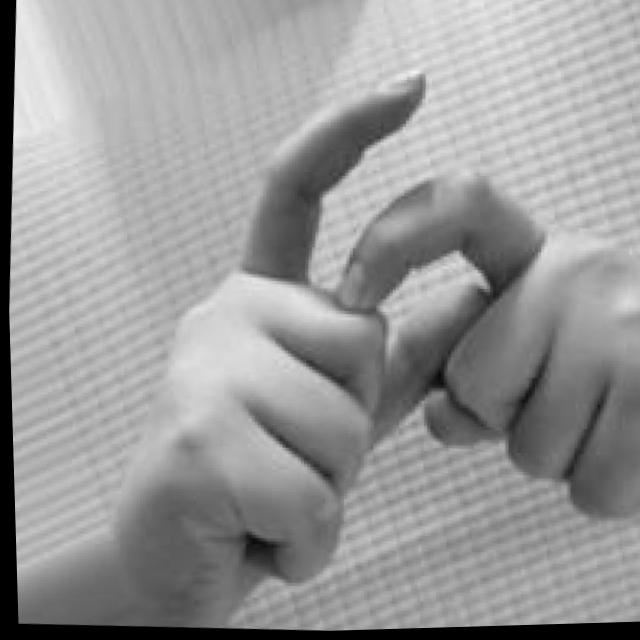G: (95, 49, 640, 637)
